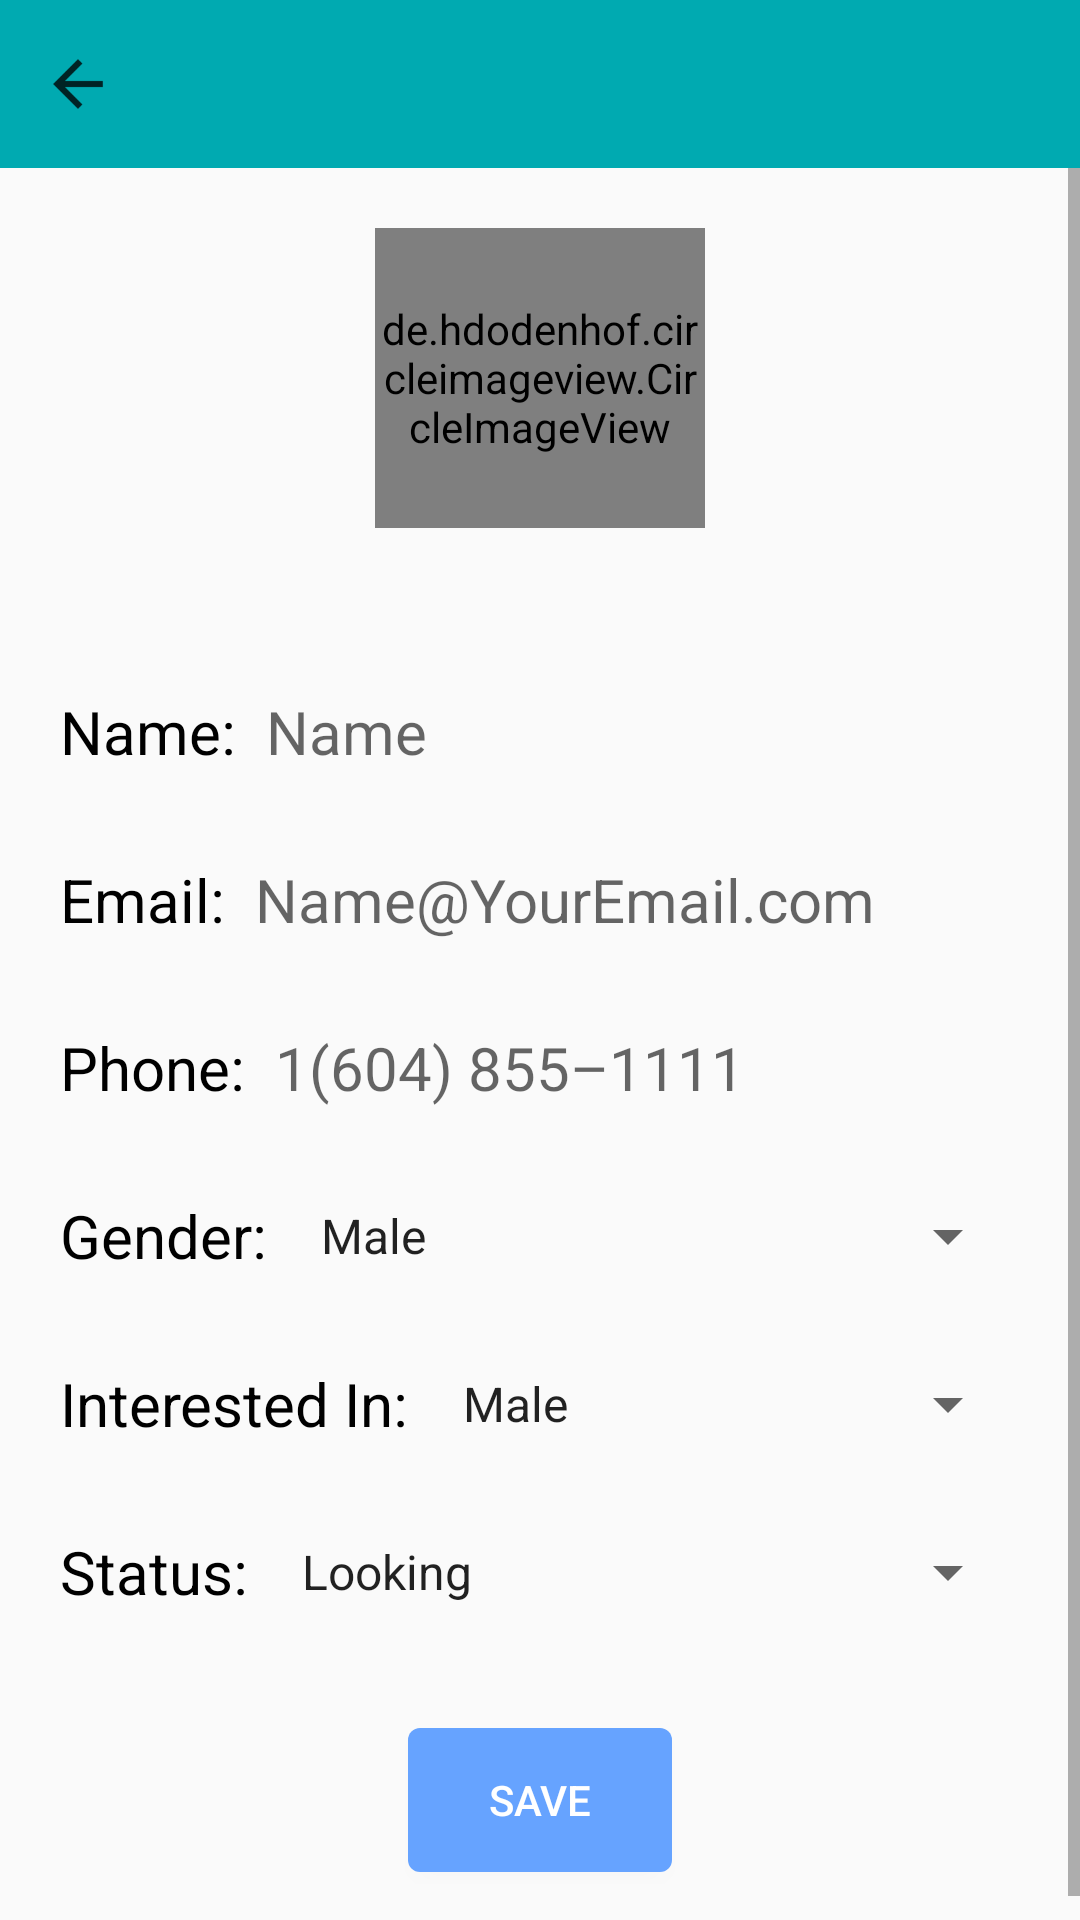

Where to tap for icons on this 1080px×1920px app screen, as point (x, y):
back arrow: point (78, 84)
